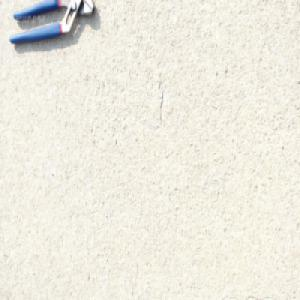Pliers: (9, 0, 97, 45)
